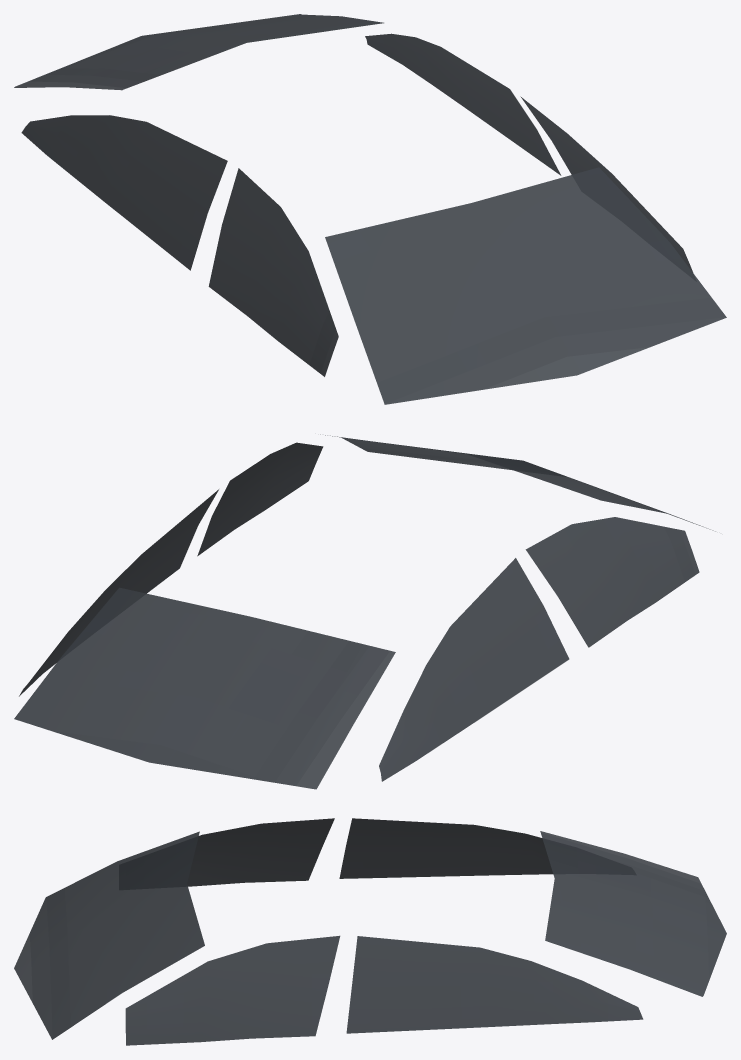
Rendered from car_1.glb.
The picture shows the model from 3 angles, top to bottom: view 1: azimuth 30°, elevation 25°; view 2: azimuth 150°, elevation 25°; view 3: azimuth 270°, elevation 25°; orthographic projection. The views are drawn at different scales.
Visible parts, largest first — view 1: Audi_A6__LOD4_1; view 2: Audi_A6__LOD4_1; view 3: Audi_A6__LOD4_1.
Boxes of the visible parts, x1,y1,x2,y2 form: Audi_A6__LOD4_1: [14, 14, 726, 404]; Audi_A6__LOD4_1: [14, 434, 715, 789]; Audi_A6__LOD4_1: [14, 818, 726, 1045].
Size of what is drawn, in the model's own units: 1.38 by 0.3657 by 2.65.
1 material, 1 textured.
